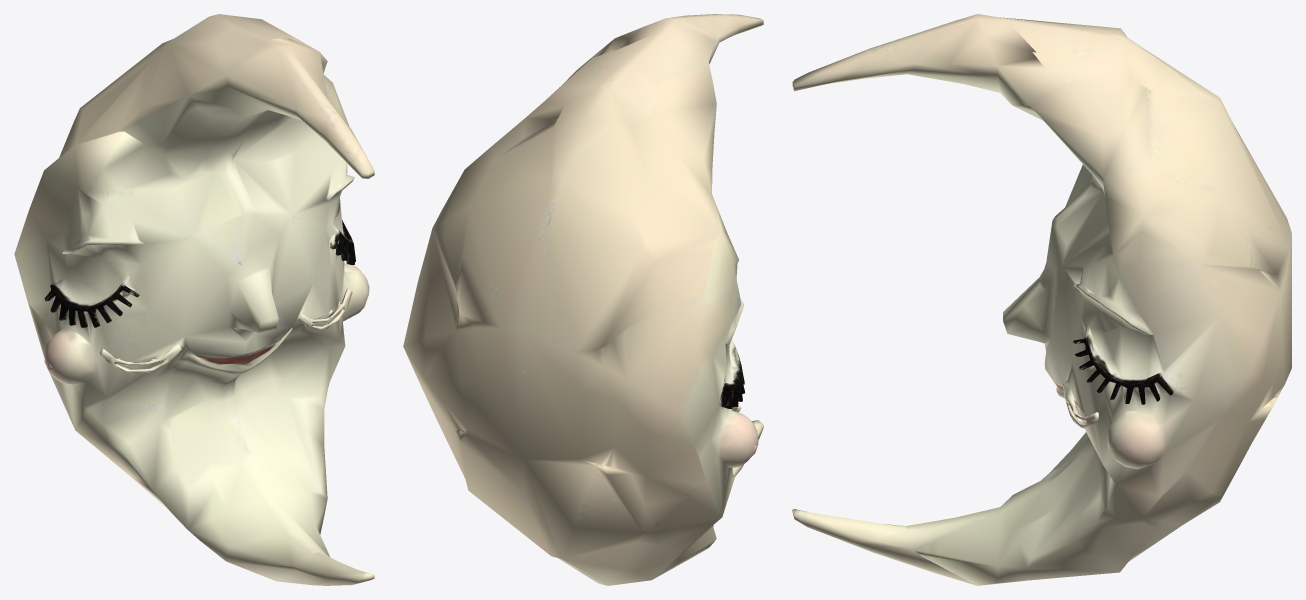
The model's file is crescent_moon.glb.
3 views of the same model, side by side, from view 1: azimuth 30°, elevation 25°; view 2: azimuth 150°, elevation 25°; view 3: azimuth 270°, elevation 25° (orthographic). The views are drawn at different scales.
Bounding box in the file's own units: 1.18 × 1.9 × 1.52.
Materials: 1 (1 with a texture image).
